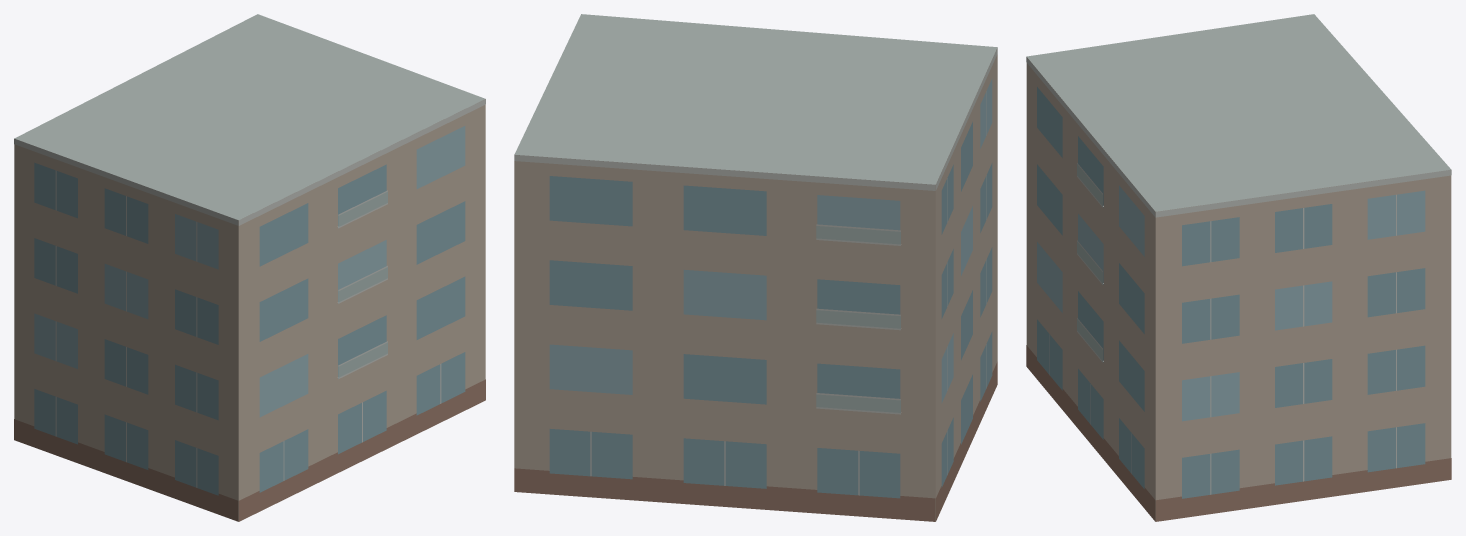
File: survey-upis-32867713.glb
3 renders of one model, left to right at view 1: azimuth 30°, elevation 25°; view 2: azimuth 150°, elevation 25°; view 3: azimuth 270°, elevation 25°, orthographic. The views are drawn at different scales.
Parts seen in each view (by area): view 1: survey-upis-32867713.tmp; view 2: survey-upis-32867713.tmp; view 3: survey-upis-32867713.tmp.
Boxes of the visible parts, box(x1,y1,x2,y2) form: survey-upis-32867713.tmp: box(14, 14, 485, 521); survey-upis-32867713.tmp: box(514, 14, 997, 521); survey-upis-32867713.tmp: box(1026, 14, 1451, 521).
Bounding box in the file's own units: 17.87 × 13.05 × 16.22.
